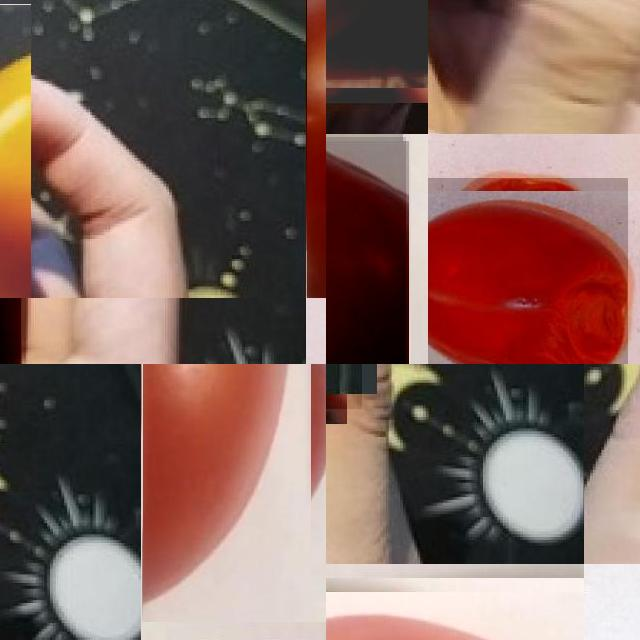Fresh Tomato: (142, 364, 326, 622), (326, 137, 406, 364)
Rotten Tomato: (428, 177, 627, 364), (0, 4, 31, 298)
